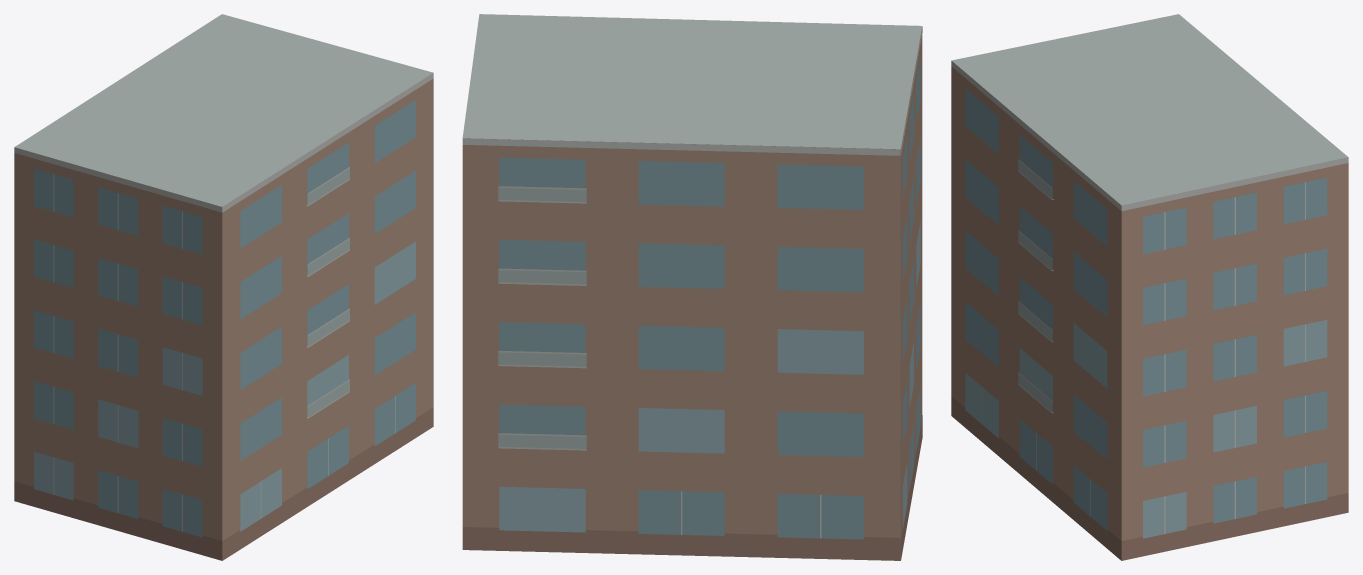
Rendered from survey-upis-32723369.glb.
3 renders of one model, left to right at view 1: azimuth 30°, elevation 25°; view 2: azimuth 150°, elevation 25°; view 3: azimuth 270°, elevation 25°, orthographic. The views are drawn at different scales.
Parts seen in each view (by area): view 1: survey-upis-32723369.tmp; view 2: survey-upis-32723369.tmp; view 3: survey-upis-32723369.tmp.
Part boxes in pixels (x1,y1,x2,y2): survey-upis-32723369.tmp: (14,14,433,560); survey-upis-32723369.tmp: (462,14,922,560); survey-upis-32723369.tmp: (951,14,1348,560).
Size of the model in its own units: 17.64 by 15.25 by 15.46.
